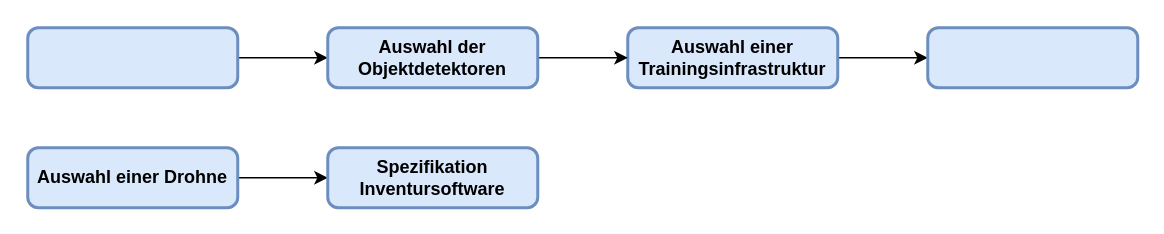
Image size: 1164x234. Some labels were removed from this diagram. Each missing label, with the centre of its shape:
Einführen von Bewertungskriterien: (x=1032, y=57)
Erstellen eines Trainingsdatensatz: (x=132, y=57)
